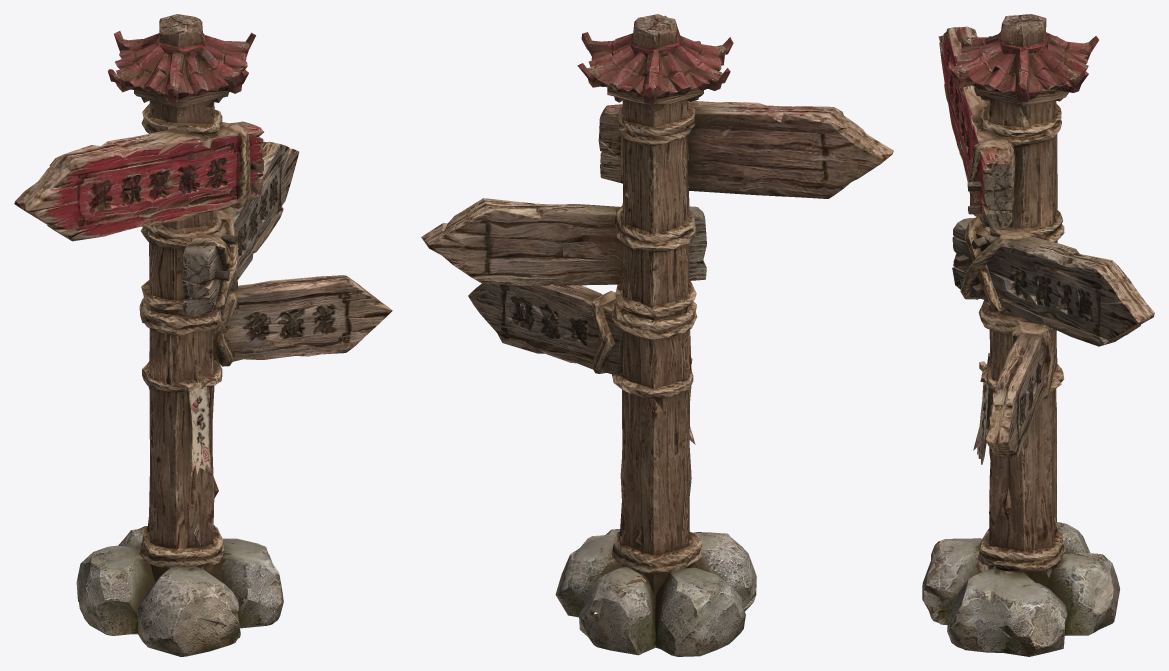
The model's file is prop_signpost.711c8955.glb.
The picture shows the model from 3 angles, left to right: view 1: azimuth 30°, elevation 25°; view 2: azimuth 150°, elevation 25°; view 3: azimuth 270°, elevation 25°; orthographic projection.
Parts seen in each view (by area): view 1: tripo_node_aea6d2f4-4d9d-4f29-b732-10407c5bd2a1; view 2: tripo_node_aea6d2f4-4d9d-4f29-b732-10407c5bd2a1; view 3: tripo_node_aea6d2f4-4d9d-4f29-b732-10407c5bd2a1.
Part boxes in pixels (bbox=[...]): tripo_node_aea6d2f4-4d9d-4f29-b732-10407c5bd2a1: bbox=[14, 14, 392, 656]; tripo_node_aea6d2f4-4d9d-4f29-b732-10407c5bd2a1: bbox=[421, 14, 893, 656]; tripo_node_aea6d2f4-4d9d-4f29-b732-10407c5bd2a1: bbox=[922, 14, 1154, 656].
Bounding box in the file's own units: 1.66 × 2.4 × 0.8485.
1 material, 1 textured.
